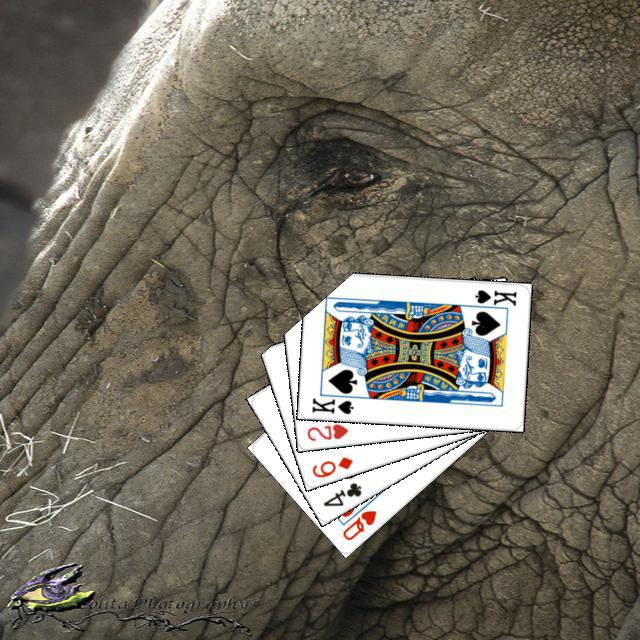2h: (302, 419, 350, 443)
4c: (318, 477, 363, 508)
6d: (307, 451, 355, 479)
Ks: (466, 285, 518, 311), (307, 393, 355, 416)
Qh: (338, 505, 378, 542)
